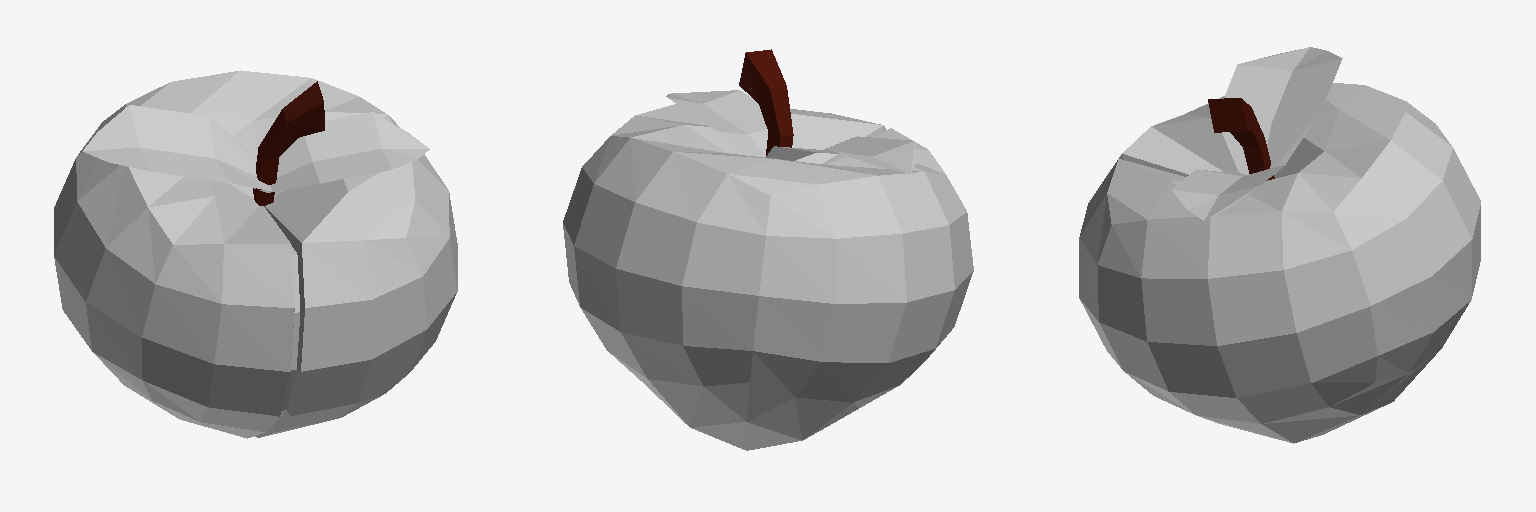
The model's file is peach2.obj.
3 renders of one model, left to right at view 1: azimuth 30°, elevation 25°; view 2: azimuth 150°, elevation 25°; view 3: azimuth 270°, elevation 25°, orthographic.
Parts seen in each view (by area): view 1: gummi_peach, Plane.003, Plane.002, Cube.002; view 2: gummi_peach, Plane.002, Cube.002, Plane.003; view 3: gummi_peach, Plane.003, Plane.002, Cube.002.
Boxes of the visible parts, <box> form: gummi_peach: <box>54,70,457,438</box>; Plane.003: <box>83,105,271,190</box>; Plane.002: <box>254,112,429,192</box>; Cube.002: <box>253,81,324,205</box>; gummi_peach: <box>563,104,973,450</box>; Plane.002: <box>666,90,767,157</box>; Cube.002: <box>739,49,793,155</box>; Plane.003: <box>765,136,915,173</box>; gummi_peach: <box>1079,83,1480,443</box>; Plane.003: <box>1222,47,1342,174</box>; Plane.002: <box>1171,164,1286,220</box>; Cube.002: <box>1208,98,1274,180</box>.
Bounding box in the file's own units: 12.66 × 12.11 × 12.36.